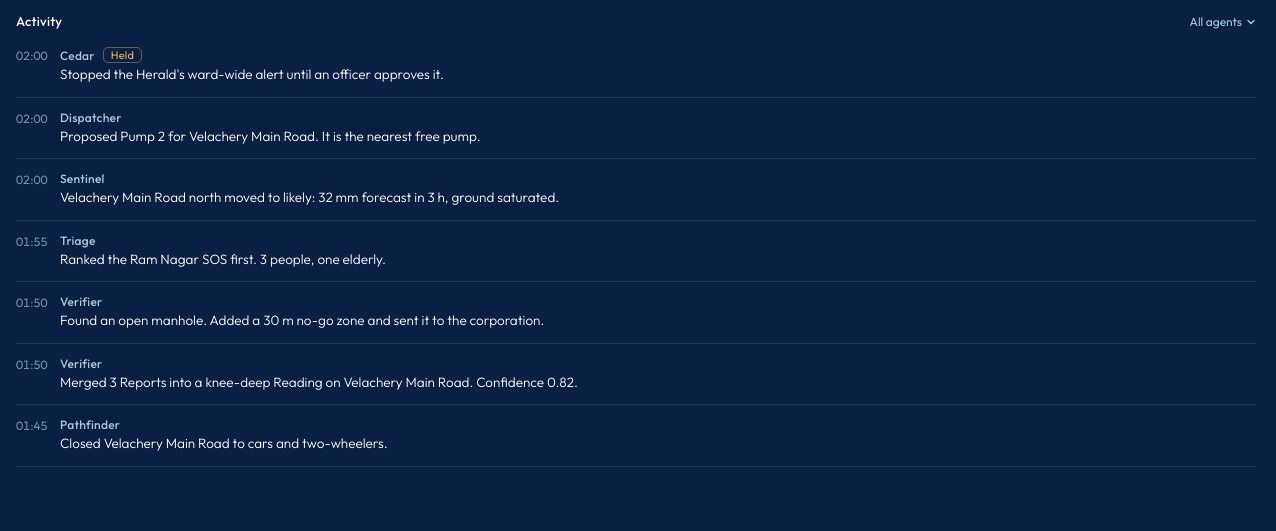
Test case: ActivityPanel shows Held on the Cedar row and expands an agent row
Expected: the text "Held" is shown, [103,47,142,63]
What coordinates should you click on to do the following:
click the button "Merged 3 Reports"
I would click on:
 (81, 363)
Its box is [60,356,1256,392].
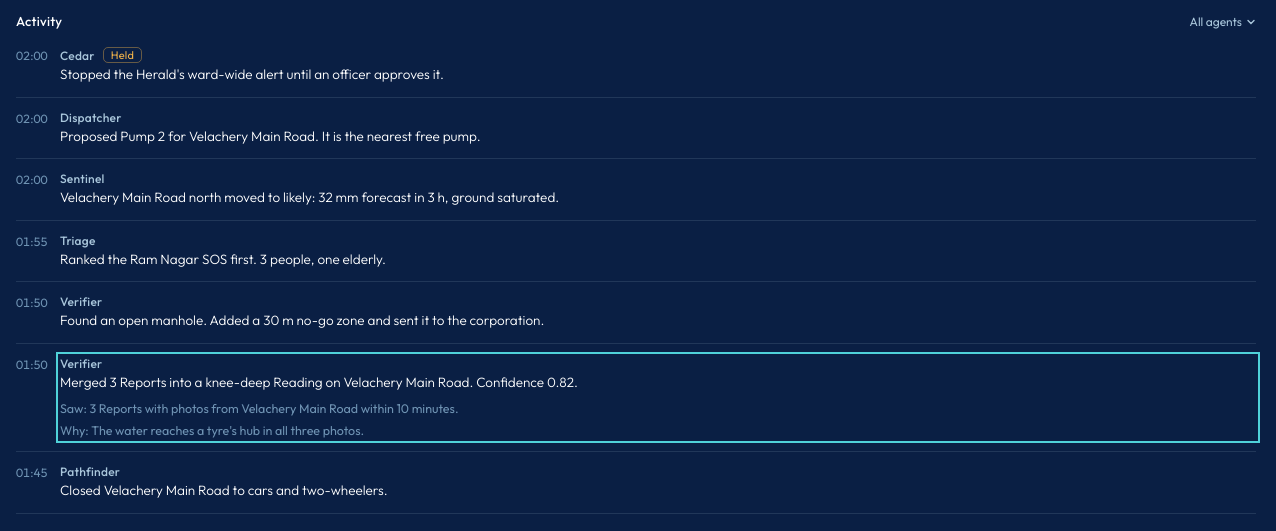
Expected: the button "Merged 3 Reports" is expanded, [60,356,1256,439]
Expected: the text "Saw:" is shown, [60,400,90,416]
Expected: the text "Why: The water reaches a tyre's hub in all three photos." is shown, [60,422,364,438]
